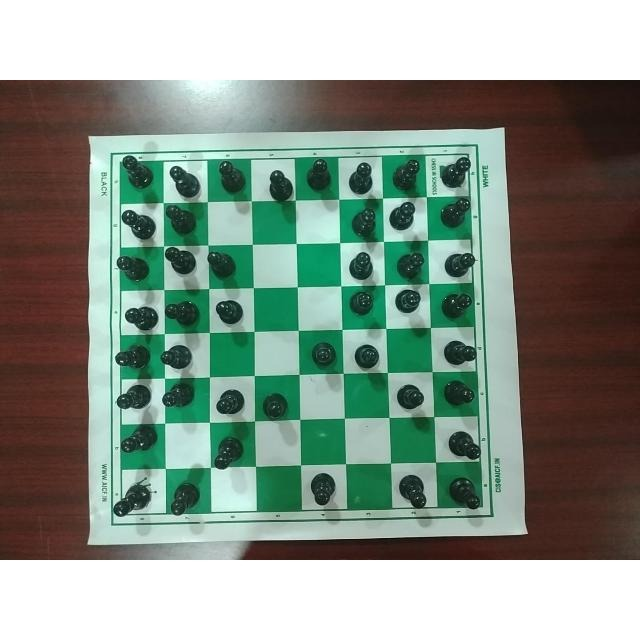black-pawn: (394, 471, 431, 514), (112, 479, 151, 517), (112, 250, 154, 285), (437, 152, 475, 189), (119, 206, 159, 241), (118, 424, 161, 456), (447, 473, 483, 511), (169, 480, 207, 516), (166, 160, 200, 200), (436, 247, 476, 281), (163, 202, 202, 236), (445, 427, 484, 461), (306, 469, 340, 508), (442, 331, 478, 367), (210, 435, 246, 471), (120, 152, 155, 189), (258, 383, 291, 421), (434, 288, 474, 319), (442, 376, 478, 410), (262, 164, 294, 202), (115, 380, 153, 412), (344, 159, 377, 195), (161, 380, 197, 413), (441, 197, 474, 232), (205, 247, 241, 279), (213, 159, 247, 192), (394, 248, 427, 282), (305, 155, 333, 194), (348, 204, 380, 238), (350, 337, 381, 371), (163, 246, 198, 276), (112, 345, 154, 370), (394, 383, 429, 413), (211, 296, 248, 324), (121, 301, 158, 329), (390, 159, 422, 191), (392, 287, 424, 319), (214, 386, 246, 418), (165, 297, 201, 325), (386, 201, 419, 231), (349, 248, 377, 283), (161, 345, 197, 371), (309, 339, 340, 369), (349, 289, 377, 317)
